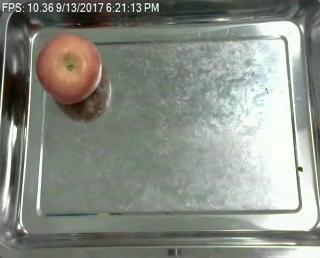apple: (34, 32, 103, 104)
